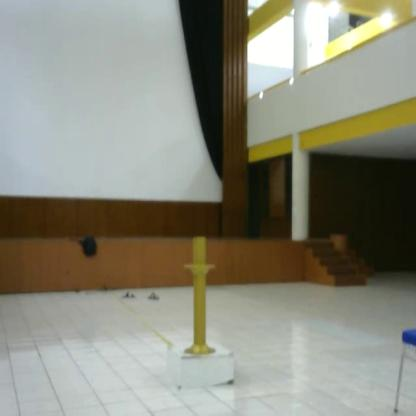pole: (181, 231, 223, 364)
